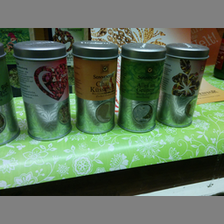spices: (13, 39, 72, 142), (72, 40, 120, 135), (158, 42, 209, 127), (119, 42, 164, 132)
